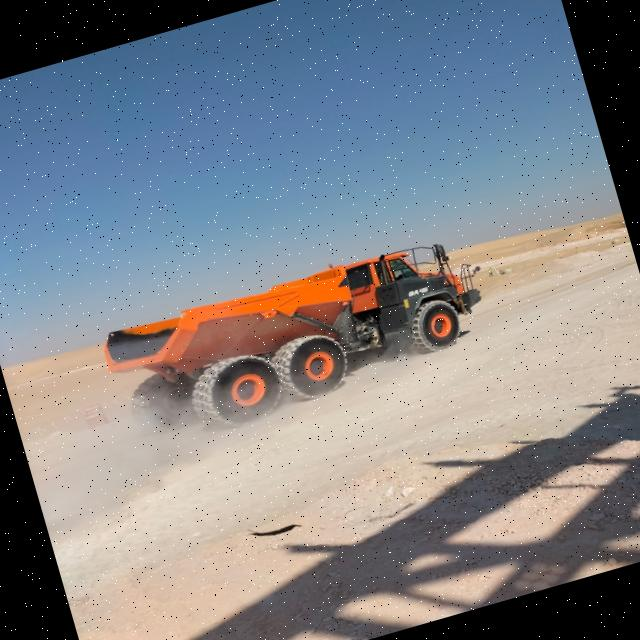Dump Truck: (99, 220, 502, 471)
